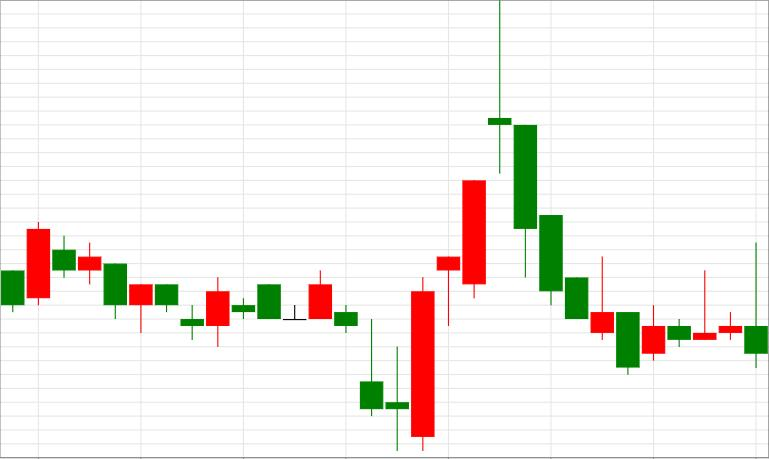bullish_engulfing_rise: (232, 269, 435, 451)
